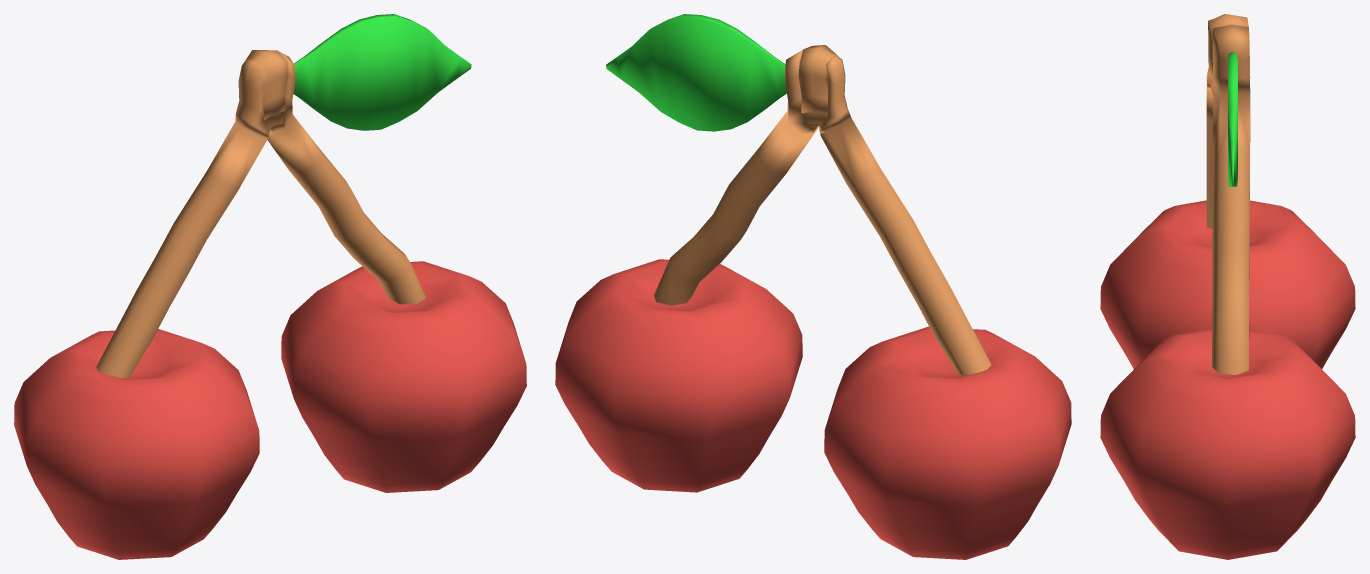
The model's file is Cherry.fbx.
3 renders of one model, left to right at view 1: azimuth 30°, elevation 25°; view 2: azimuth 150°, elevation 25°; view 3: azimuth 270°, elevation 25°, orthographic.
Visible parts, largest first — view 1: Cherry_Leaf; view 2: Cherry_Leaf; view 3: Cherry_Leaf.
Part boxes in pixels (x1,y1,x2,y2): Cherry_Leaf: (14,14,526,559); Cherry_Leaf: (555,14,1071,559); Cherry_Leaf: (1100,14,1355,559).
Size of the model in its own units: 199 by 178 by 89.82.
